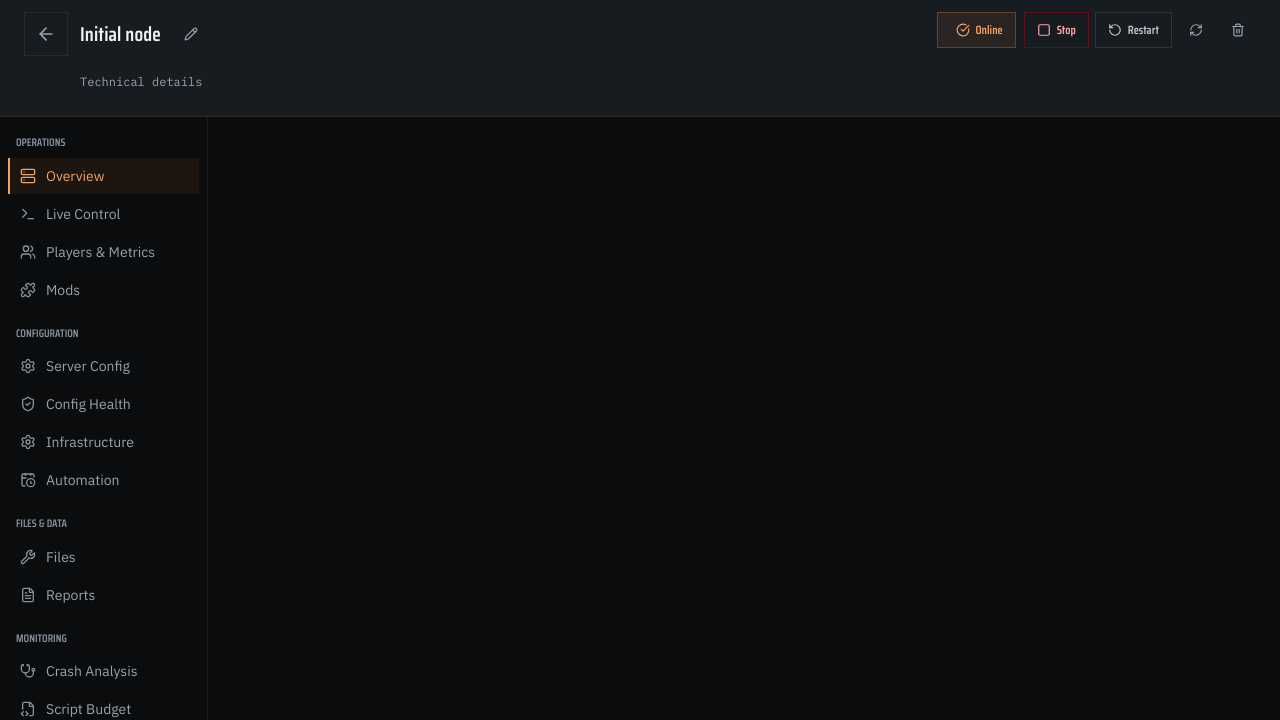
Scenario: server workspace request ordering › resumes summary polling after the latest full refresh fails
This screenshot has width=1280, height=720.
Click the button named "refresh server" at point(1196, 30), box [1178,12,1214,48]
Wait 15000 ms
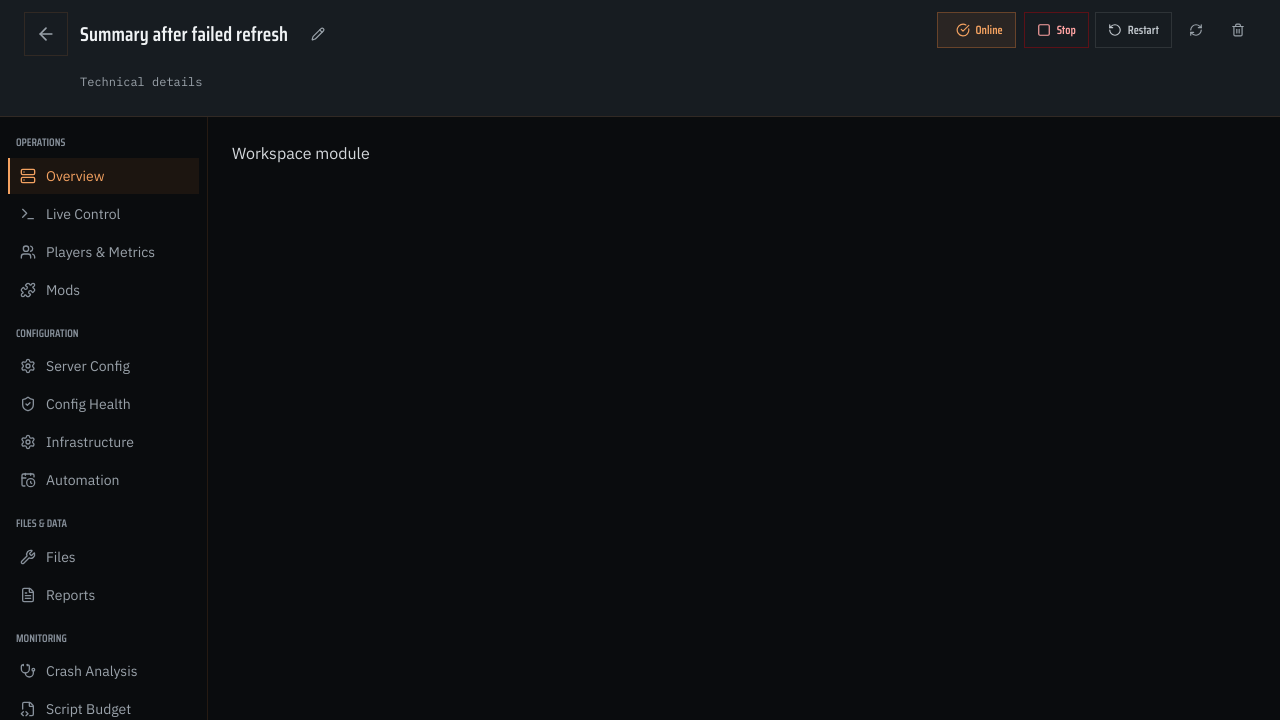
Check: the heading "Summary after failed refresh" is shown, box [80,22,288,46]
